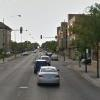Car: (30, 56, 63, 95)
